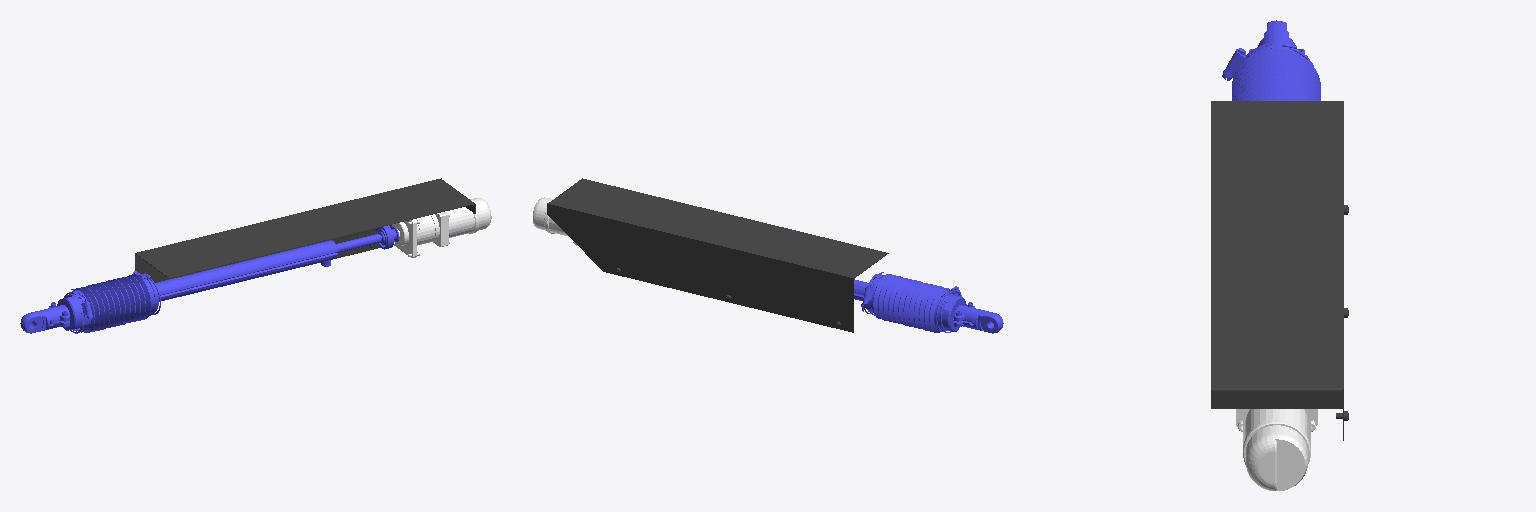
The robot description file, URDF, robot "spraygan3":
<?xml version="1.0" encoding="utf-8"?>
<!-- This URDF was automatically created by SolidWorks to URDF Exporter! Originally created by [author] ([email redacted]) 
     Commit Version: 1.6.0-4-g7f85cfe  Build Version: 1.6.7995.38578
     For more information, please see http://wiki.ros.org/sw_urdf_exporter -->
<robot
  name="spraygan3">
<link name="base_footprint">
</link>
  <link name="base_link">
    <inertial>
      <origin
        xyz="-0.048613608435407 -0.00638094242116576 -0.0147323014509533"
        rpy="0 0 0" />
      <mass
        value="0.0955147834568144" />
      <inertia
        ixx="1.14012291358763E-05"
        ixy="1.01042581227284E-10"
        ixz="1.10725084455561E-07"
        iyy="1.19692416716406E-05"
        iyz="2.27531497509632E-09"
        izz="8.28970457437801E-06" />
    </inertial>
    <visual>
      <origin
        xyz="0 0 0"
        rpy="0 0 0" />
      <geometry>
        <mesh
          filename="package://spraygan3/meshes/base_link.STL" />
      </geometry>
      <material
        name="">
        <color
          rgba="0.0313725490196078 0.0313725490196078 0.0313725490196078 1" />
      </material>
    </visual>
    <collision>
      <origin
        xyz="0 0 0"
        rpy="0 0 0" />
      <geometry>
        <mesh
          filename="package://spraygan3/meshes/base_link.STL" />
      </geometry>
    </collision>
  </link>


<joint name="joint_x" type ="continuous">
    <origin xyz="0.0 0.0 0.0" rpy="0.0 0.0 0.0"/>
    <parent link = "base_footprint" />
    <child link = "base_link_x" />
    <axis xyz = "1 0 0" />
</joint>

<joint name="joint_y" type ="continuous">
    <origin xyz="0.0 0.0 0.0" rpy="0.0 0.0 0.0"/>
    <parent link = "base_link_x" />
    <child link = "base_link_y" />
    <axis xyz = "0 1 0" />
</joint>

<joint name="joint_z" type ="continuous">
    <origin xyz="0.0 0.0 0.0" rpy="0.0 0.0 0.0"/>
    <parent link = "base_link_y" />
    <child link = "base_link" />
    <axis xyz = "0 0 1" />
</joint>
<link name="base_link_x" />
<link name = "base_link_y" />

  <link name="Link1">
    <inertial>
      <origin
        xyz="0.317620632943105 -0.000145769118763461 -0.00106326692282507"
        rpy="0 0 0" />
      <mass
        value="0.445711010231022" />
      <inertia
        ixx="0.000196933461317675"
        ixy="3.35512847719352E-06"
        ixz="-1.05016759515173E-07"
        iyy="0.0011436656428389"
        iyz="-1.38876777167375E-09"
        izz="0.00114366942951764" />
    </inertial>
    <visual>
      <origin
        xyz="0 0 0"
        rpy="0 0 0" />
      <geometry>
        <mesh
          filename="package://spraygan3/meshes/Link1.STL" />
      </geometry>
      <material
        name="">
        <color
          rgba="1 1 1 1" />
      </material>
    </visual>
    <collision>
      <origin
        xyz="0 0 0"
        rpy="0 0 0" />
      <geometry>
        <mesh
          filename="package://spraygan3/meshes/Link1.STL" />
      </geometry>
    </collision>
  </link>

  <joint
    name="joint1"
    type="fixed">
    <origin
      xyz="0 0 0"
      rpy="0 0 0" />
    <parent
      link="base_link" />
    <child
      link="Link1" />
    <axis
      xyz="0 0 0" />
  </joint>
  <link
    name="Link2">
    <inertial>
      <origin
        xyz="0.0638884822288708 3.36552253246575E-16 0.0501923738022853"
        rpy="0 0 0" />
      <mass
        value="0.0717286506445139" />
      <inertia
        ixx="8.07177480392565E-05"
        ixy="-2.7866819081814E-14"
        ixz="6.41246309196677E-06"
        iyy="0.00227357008704018"
        iyz="-4.81512395428191E-14"
        izz="0.0023537163887178" />
    </inertial>
    <visual>
      <origin
        xyz="0 0 0"
        rpy="0 0 0" />
      <geometry>
        <mesh
          filename="package://spraygan3/meshes/Link2.STL" />
      </geometry>
      <material
        name="">
        <color
          rgba="0.32156862745098 0.32156862745098 0.32156862745098 1" />
      </material>
    </visual>
    <collision>
      <origin
        xyz="0 0 0"
        rpy="0 0 0" />
      <geometry>
        <mesh
          filename="package://spraygan3/meshes/Link2.STL" />
      </geometry>
    </collision>
  </link>
  <joint
    name="joint2"
    type="fixed">
    <origin
      xyz="0 0 0"
      rpy="0 0 0" />
    <parent
      link="base_link" />
    <child
      link="Link2" />
    <axis
      xyz="0 0 0" />
  </joint>
  <link
    name="Link3">
    <inertial>
      <origin
        xyz="0.0334918933361202 0.0585084144876426 0.00117944783145434"
        rpy="0 0 0" />
      <mass
        value="0.0576353406423693" />
      <inertia
        ixx="4.8377751676534E-05"
        ixy="1.93442037657065E-13"
        ixz="-2.89837649127285E-05"
        iyy="0.00153869604999938"
        iyz="-6.30795339774544E-14"
        izz="0.00149034755106505" />
    </inertial>
    <visual>
      <origin
        xyz="0 0 0"
        rpy="0 0 0" />
      <geometry>
        <mesh
          filename="package://spraygan3/meshes/Link3.STL" />
      </geometry>
      <material
        name="">
        <color
          rgba="0.32156862745098 0.32156862745098 0.32156862745098 1" />
      </material>
    </visual>
    <collision>
      <origin
        xyz="0 0 0"
        rpy="0 0 0" />
      <geometry>
        <mesh
          filename="package://spraygan3/meshes/Link3.STL" />
      </geometry>
    </collision>
  </link>
  <joint
    name="3"
    type="fixed">
    <origin
      xyz="0 0 0"
      rpy="0 0 0" />
    <parent
      link="base_link" />
    <child
      link="Link3" />
    <axis
      xyz="0 0 0" />
  </joint>
  <link
    name="Link4">
    <inertial>
      <origin
        xyz="-0.210956805541446 -2.20796550166438E-05 -0.000809798086932399"
        rpy="0 0 0" />
      <mass
        value="0.469492145790988" />
      <inertia
        ixx="0.000152582806719886"
        ixy="3.75853305227968E-07"
        ixz="-1.61054654549285E-06"
        iyy="0.00420699063180624"
        iyz="2.13163349693599E-06"
        izz="0.00421088859682501" />
    </inertial>
    <visual>
      <origin
        xyz="0 0 0"
        rpy="0 0 0" />
      <geometry>
        <mesh
          filename="package://spraygan3/meshes/Link4.STL" />
      </geometry>
      <material
        name="">
        <color
          rgba="0.392156862745098 0.392156862745098 1 1" />
      </material>
    </visual>
    <collision>
      <origin
        xyz="0 0 0"
        rpy="0 0 0" />
      <geometry>
        <mesh
          filename="package://spraygan3/meshes/Link4.STL" />
      </geometry>
    </collision>
  </link>
  <joint
    name="4"
    type="fixed">
    <origin
      xyz="0 0 0"
      rpy="0 0 0" />
    <parent
      link="base_link" />
    <child
      link="Link4" />
    <axis
      xyz="0 0 0" />
  </joint>
</robot>

--- Render facts (derived) ---
Views: 3 orthographic renders of the robot side by side, from view 1: azimuth 30°, elevation 25°; view 2: azimuth 150°, elevation 25°; view 3: azimuth 270°, elevation 25°.
Model spraygan3 with 8 links and 7 joints (3 continuous, 4 fixed), rooted at base_footprint, posed all joints at 0.
Visible links, largest first — view 1: Link2, Link4, Link1, Link3; view 2: Link3, Link2, Link4, Link1; view 3: Link2, Link1, Link4.
Link boxes in pixels (x1=…): Link2: x1=135, y1=179, x2=475, y2=278; Link4: x1=20, y1=225, x2=398, y2=333; Link1: x1=392, y1=198, x2=491, y2=257; Link3: x1=135, y1=178, x2=441, y2=296; Link3: x1=547, y1=203, x2=853, y2=332; Link2: x1=548, y1=178, x2=888, y2=278; Link4: x1=854, y1=272, x2=1003, y2=333; Link1: x1=533, y1=197, x2=577, y2=245; Link2: x1=1211, y1=101, x2=1342, y2=408; Link1: x1=1236, y1=409, x2=1317, y2=490; Link4: x1=1222, y1=20, x2=1320, y2=100.
Size in the robot's own frame: 0.9086 by 0.1214 by 0.102 metres.
Meshes: 5 distinct files referenced, 4 mesh visuals loaded (4 binary STL); not drawn: 1 (reference not matched to a file when rendering).